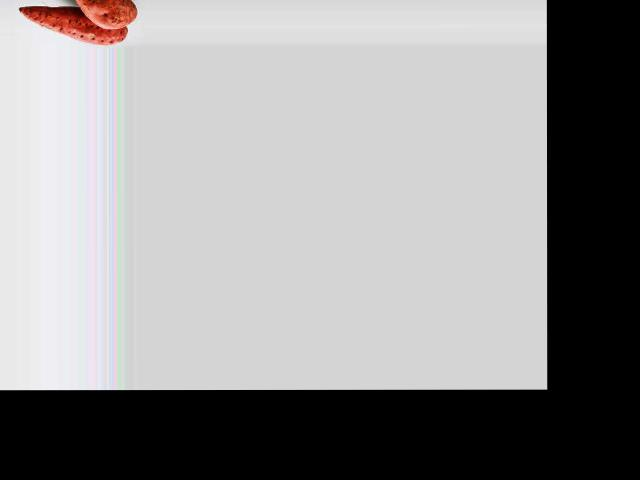sweet_potato: (25, 5, 127, 44)
